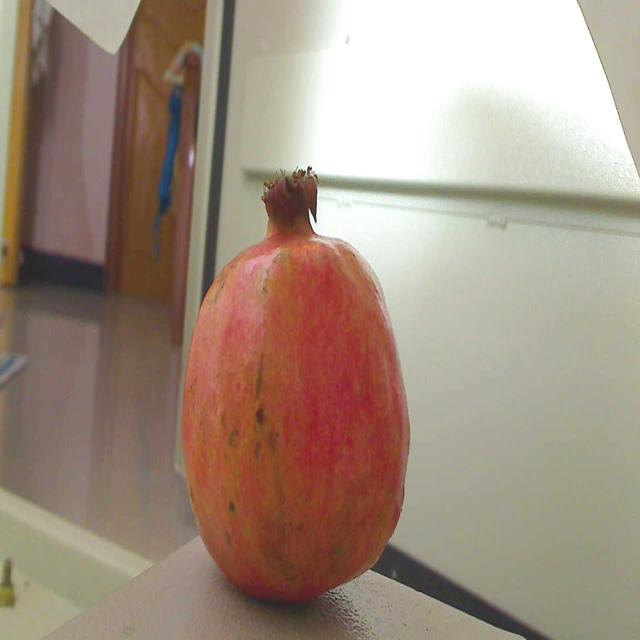pomegranate: (168, 144, 426, 618)
